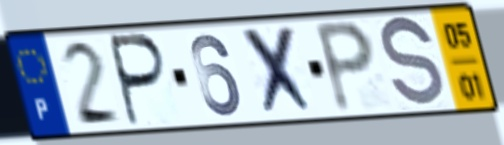2: (56, 40, 123, 128)
6: (189, 31, 244, 119)
P: (311, 18, 378, 117), (108, 31, 171, 129)
S: (378, 12, 447, 113)
X: (238, 22, 320, 120)
